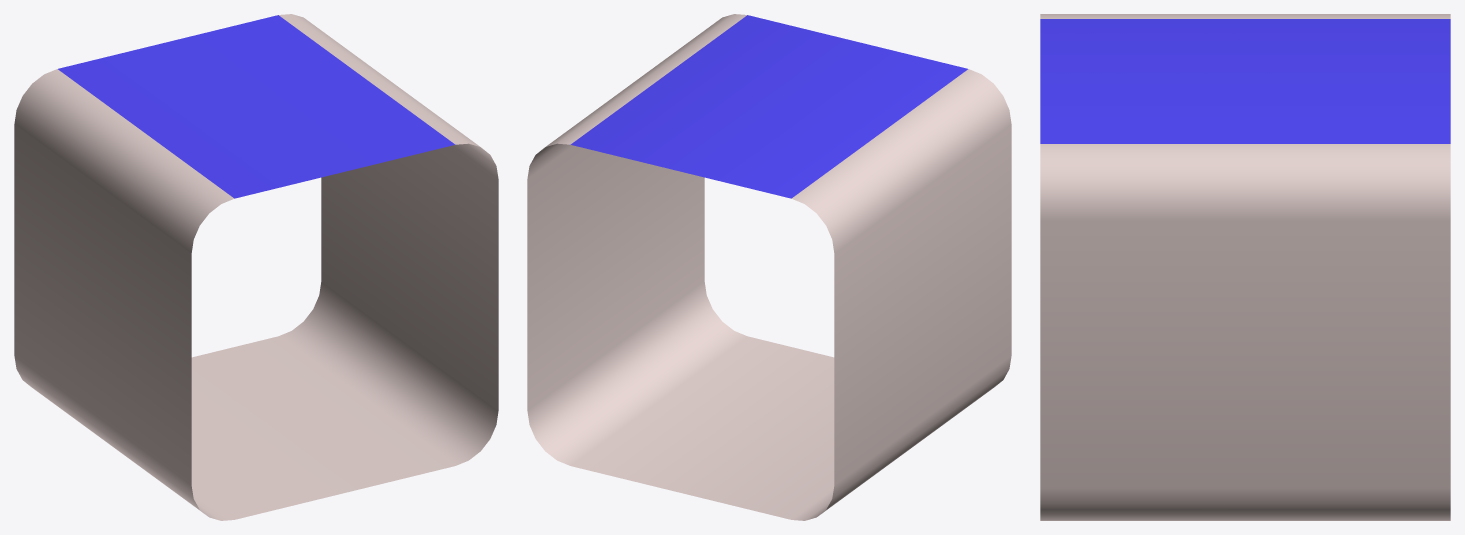
The model's file is SplineSegment.fbx.
3 views of the same model, side by side, from view 1: azimuth 30°, elevation 25°; view 2: azimuth 150°, elevation 25°; view 3: azimuth 270°, elevation 25° (orthographic). The views are drawn at different scales.
Visible parts, largest first — view 1: Cube; view 2: Cube; view 3: Cube.
Part boxes in pixels (x1,y1,x2,y2): Cube: [14, 14, 498, 520]; Cube: [527, 14, 1011, 520]; Cube: [1040, 14, 1450, 520].
Bounding box in the file's own units: 200 × 200 × 200.
